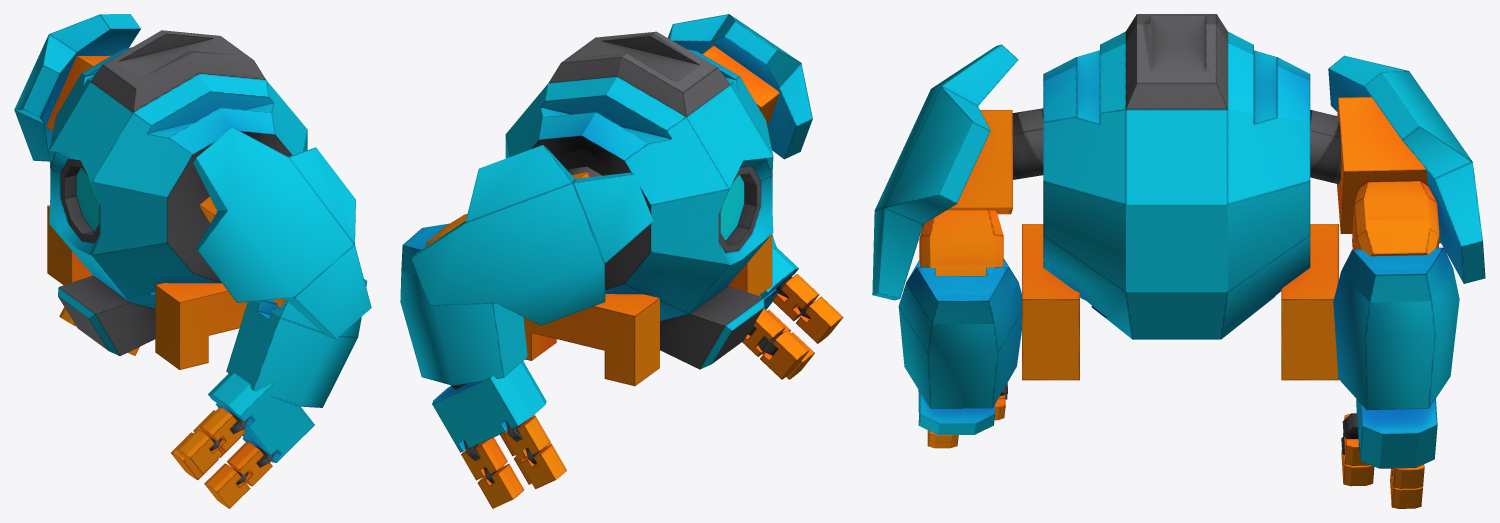
The model's file is Body_Idle6.obj.
3 views of the same model, side by side, from view 1: azimuth 30°, elevation 25°; view 2: azimuth 150°, elevation 25°; view 3: azimuth 270°, elevation 25° (orthographic). The views are drawn at different scales.
Visible parts, largest first — view 1: Plane001, Object006, Object008, Object007, Object002; view 2: Plane001, Object002, Object004, Object003, Object006, Object008; view 3: Plane001, Object002, Object006, Object003, Object007, Object004, Object008, Object005, Object001.
Part boxes in pixels (box(x1,y1,x2,y2)): Plane001: box(47, 30, 307, 369); Object006: box(193, 127, 371, 338); Object008: box(171, 373, 314, 508); Object007: box(226, 279, 367, 407); Object002: box(14, 14, 140, 161); Plane001: box(505, 31, 773, 386); Object002: box(411, 145, 653, 325); Object004: box(432, 361, 566, 508); Object003: box(400, 223, 527, 385); Object006: box(668, 14, 812, 159); Object008: box(742, 247, 843, 379); Plane001: box(1022, 14, 1338, 380); Object002: box(1328, 55, 1485, 283); Object006: box(872, 44, 1018, 300); Object003: box(1333, 247, 1459, 409); Object007: box(898, 258, 1021, 408); Object004: box(1341, 399, 1437, 508); Object008: box(918, 383, 1007, 448); Object005: box(1012, 108, 1043, 179); Object001: box(1310, 109, 1341, 184).
Bounding box in the file's own units: 96.44 × 151 × 182.
